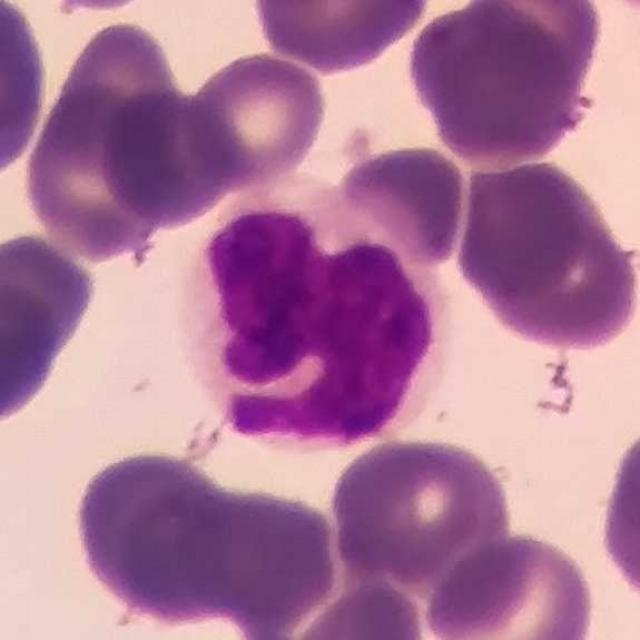Monocyte: (181, 182, 455, 472)
RBC: (65, 444, 252, 626), (405, 0, 593, 167), (325, 432, 516, 584), (21, 78, 176, 258), (177, 480, 343, 634), (180, 48, 332, 191), (97, 84, 247, 228), (452, 156, 594, 303), (418, 528, 599, 640), (491, 216, 631, 354), (325, 139, 472, 269), (459, 1, 606, 108), (247, 0, 438, 75), (0, 221, 99, 357), (0, 270, 85, 415), (0, 0, 53, 188), (592, 410, 640, 614), (285, 579, 430, 640), (20, 0, 169, 17)
